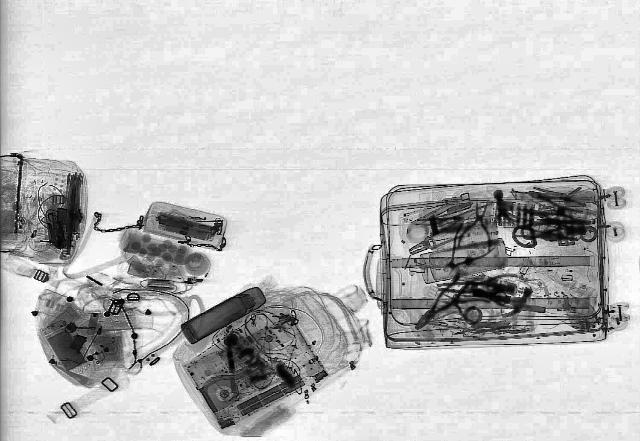Pliers: (405, 272, 479, 334), (451, 197, 503, 251), (402, 224, 466, 258), (524, 186, 588, 214)
